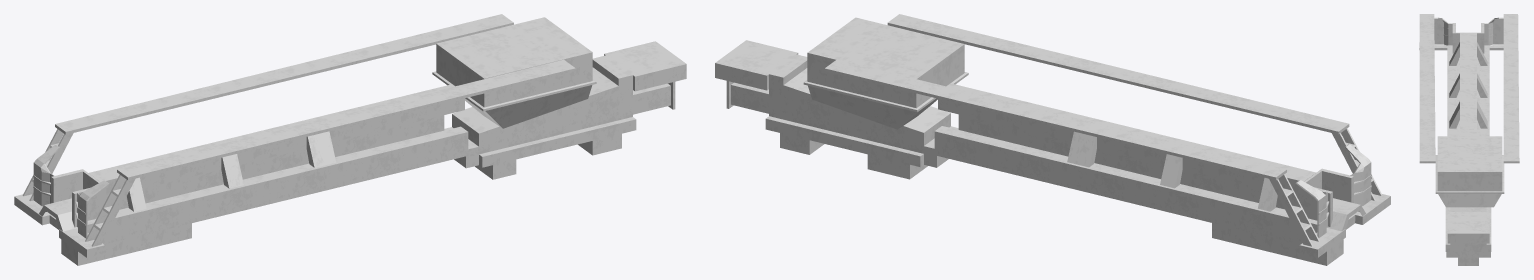
File: Steam Train Frame_A_001.fbx
The picture shows the model from 3 angles, left to right: view 1: azimuth 30°, elevation 25°; view 2: azimuth 150°, elevation 25°; view 3: azimuth 270°, elevation 25°; orthographic projection. The views are drawn at different scales.
Parts seen in each view (by area): view 1: Steam_Train_Frame_A_001; view 2: Steam_Train_Frame_A_001; view 3: Steam_Train_Frame_A_001.
Part boxes in pixels (x1=…): Steam_Train_Frame_A_001: x1=14, y1=14, x2=686, y2=265; Steam_Train_Frame_A_001: x1=715, y1=14, x2=1390, y2=265; Steam_Train_Frame_A_001: x1=1419, y1=14, x2=1519, y2=265.
Bounding box in the file's own units: 841 × 143 × 174.
Materials: 2 (2 with a texture image).
